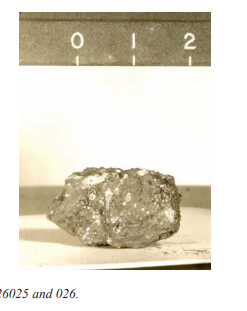Breccia: (54, 159, 187, 245)
